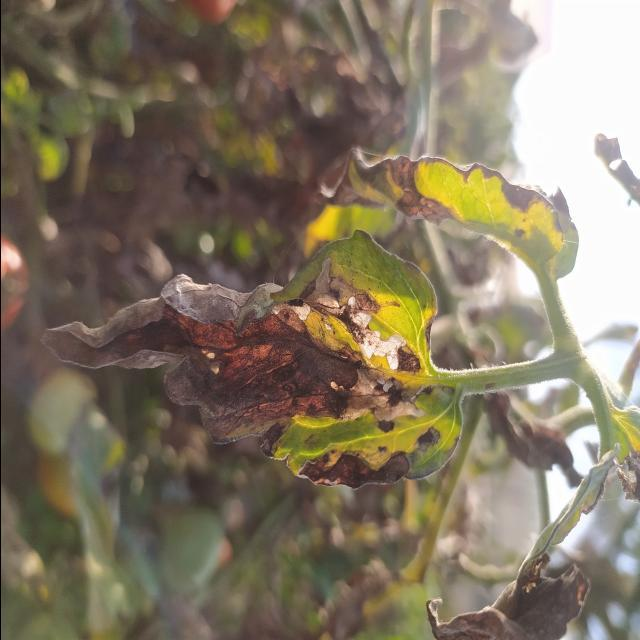Tomato mosaic virus leaf: (40, 227, 450, 495)
